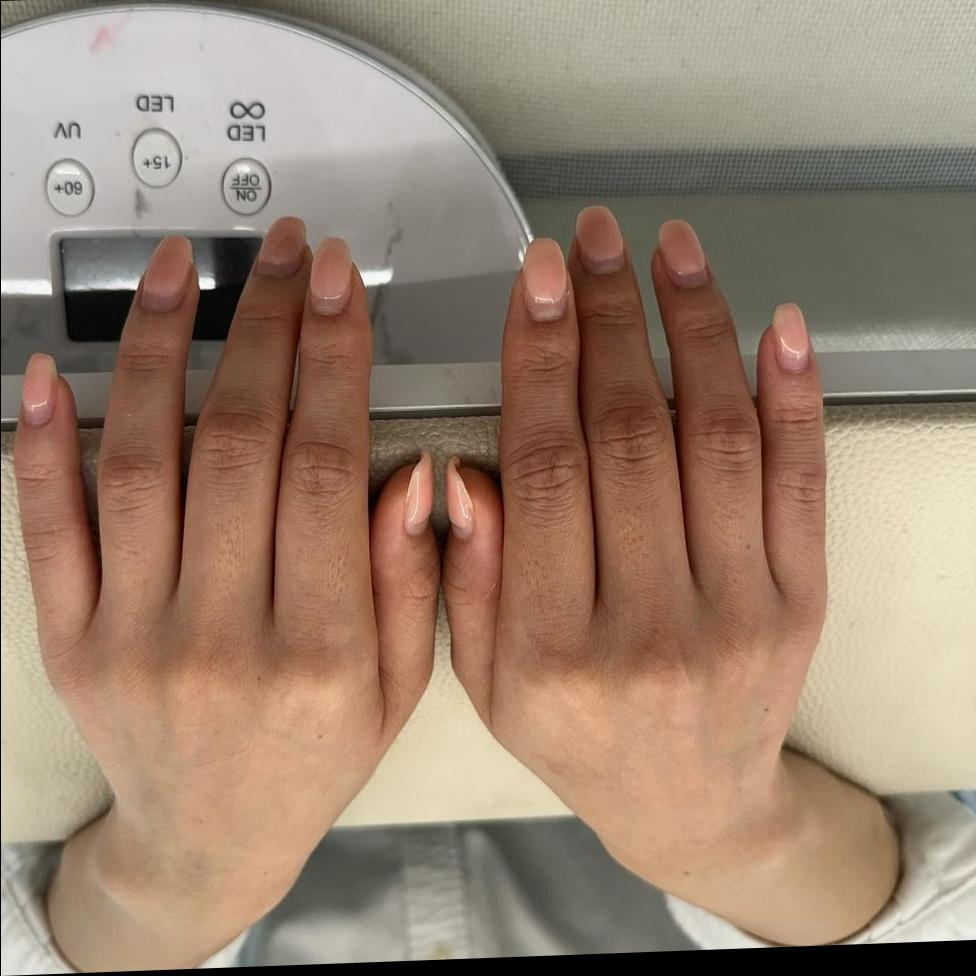nail: (140, 235, 194, 314), (522, 236, 568, 323), (574, 203, 626, 276), (657, 217, 708, 290), (309, 236, 353, 317), (255, 216, 306, 280), (772, 301, 811, 373), (21, 352, 57, 427), (404, 451, 435, 536), (445, 455, 475, 541)
